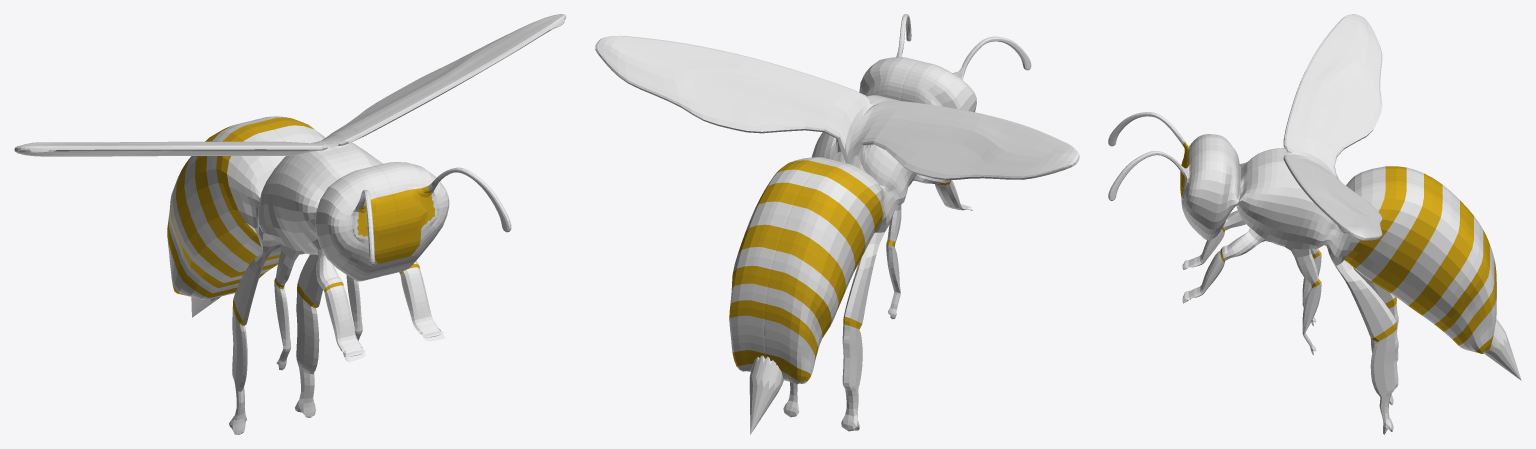
Rendered from bee_01.fbx.
3 renders of one model, left to right at view 1: azimuth 30°, elevation 25°; view 2: azimuth 150°, elevation 25°; view 3: azimuth 270°, elevation 25°, orthographic. The views are drawn at different scales.
Parts seen in each view (by area): view 1: Plane; view 2: Plane; view 3: Plane.
Boxes of the visible parts, left/top/right/bottom form: Plane: left=14, top=14, right=566, bottom=434; Plane: left=595, top=14, right=1079, bottom=434; Plane: left=1108, top=14, right=1521, bottom=434.
Size of the model in its own units: 719 by 452 by 568.
